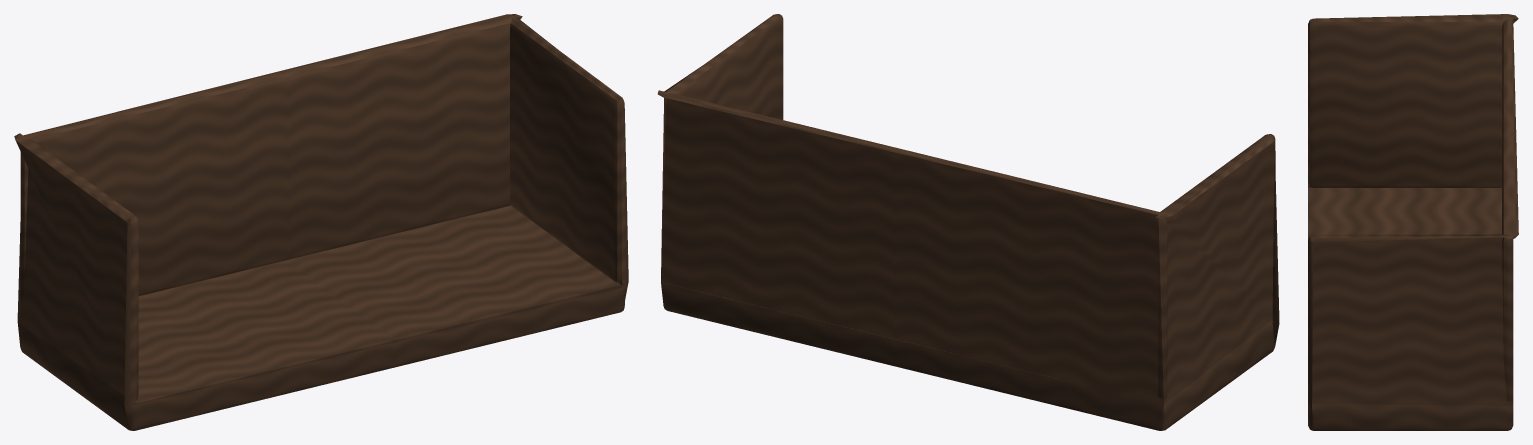
The model's file is balcony_basic.glb.
3 renders of one model, left to right at view 1: azimuth 30°, elevation 25°; view 2: azimuth 150°, elevation 25°; view 3: azimuth 270°, elevation 25°, orthographic. The views are drawn at different scales.
Visible parts, largest first — view 1: balcony_basic_0; view 2: balcony_basic_0; view 3: balcony_basic_0.
Part boxes in pixels (x1,y1,x2,y2): balcony_basic_0: [14, 14, 628, 430]; balcony_basic_0: [657, 14, 1279, 430]; balcony_basic_0: [1308, 14, 1518, 430].
Bounding box in the file's own units: 2.86 × 1.16 × 1.13.
1 material, 1 textured.
